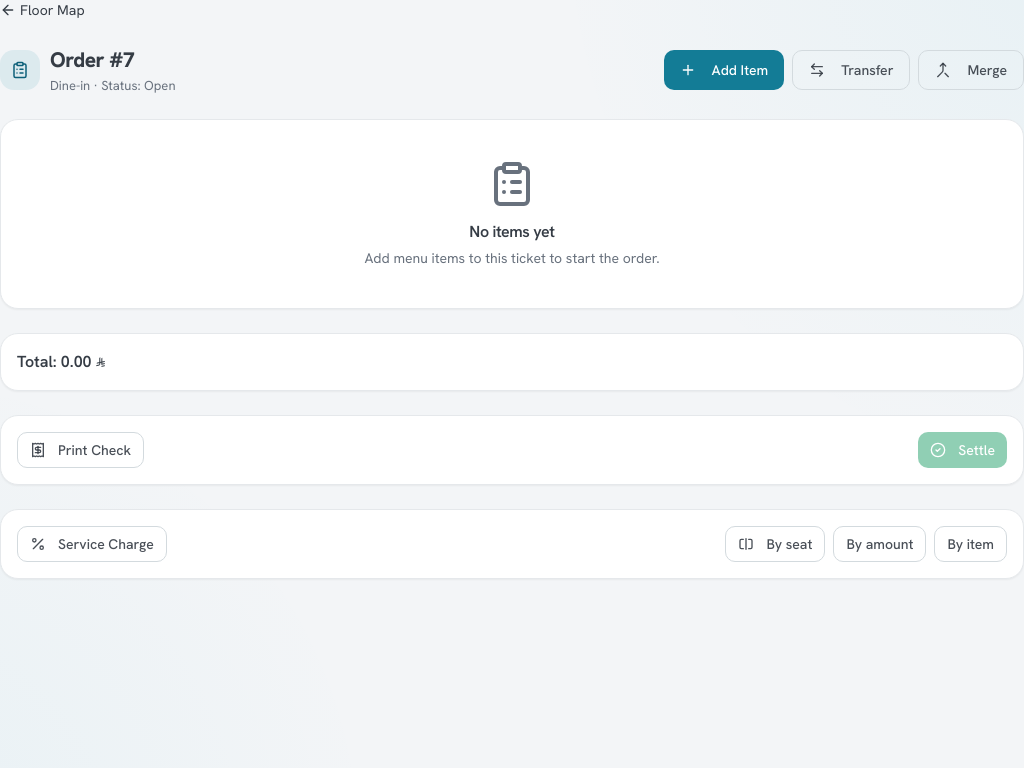
OrderTicket modifier picker — shadcn primitives (#226) › renders multi-select options as shadcn Checkbox primitives that toggle
Click the button "Add Item": coordinates (724, 70) [664, 50, 784, 90]
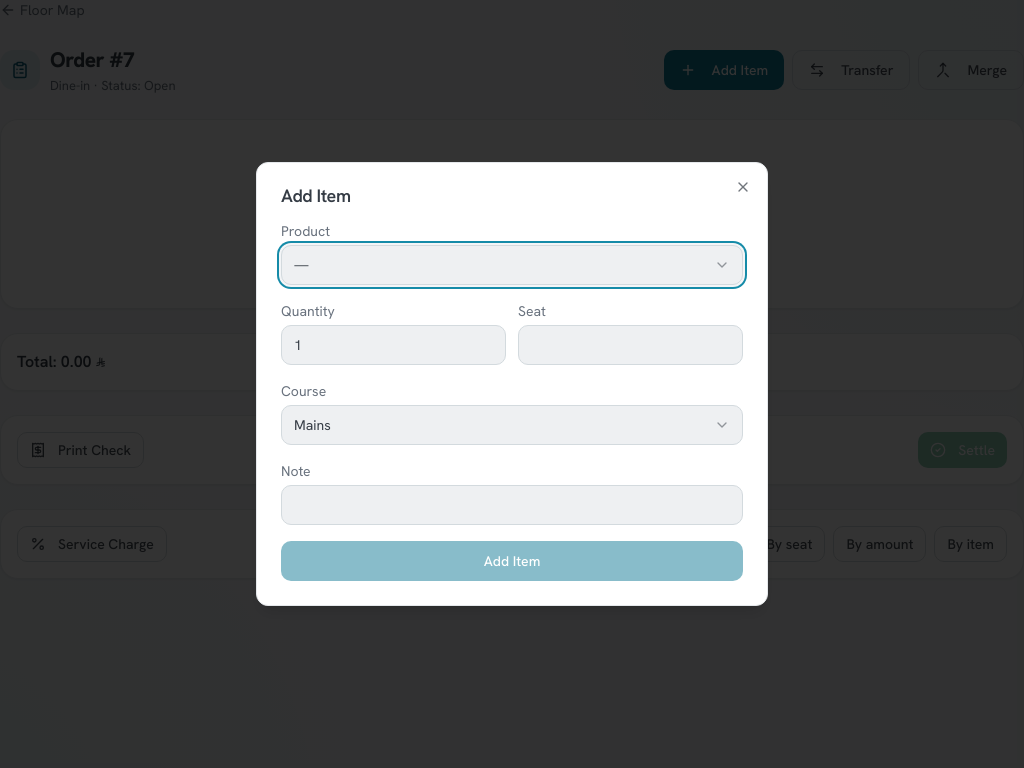
Click the dropdown labelled "—": coordinates (301, 265) [281, 245, 743, 285]
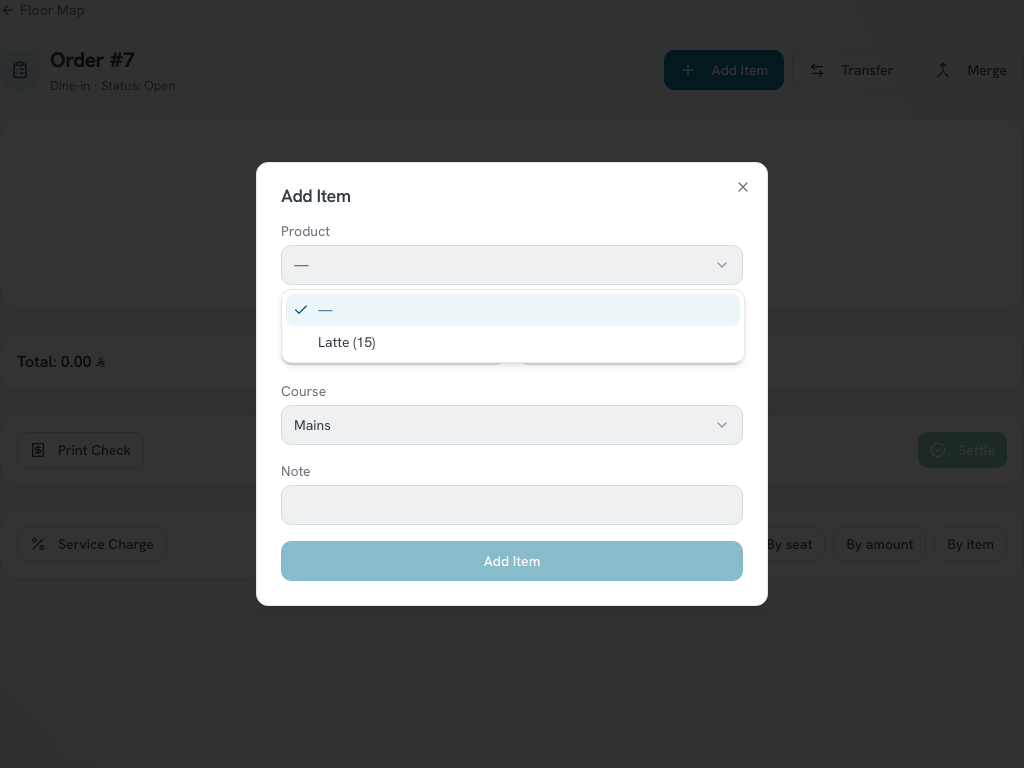
Click the option "Latte (15)": coordinates (347, 342) [318, 333, 375, 351]
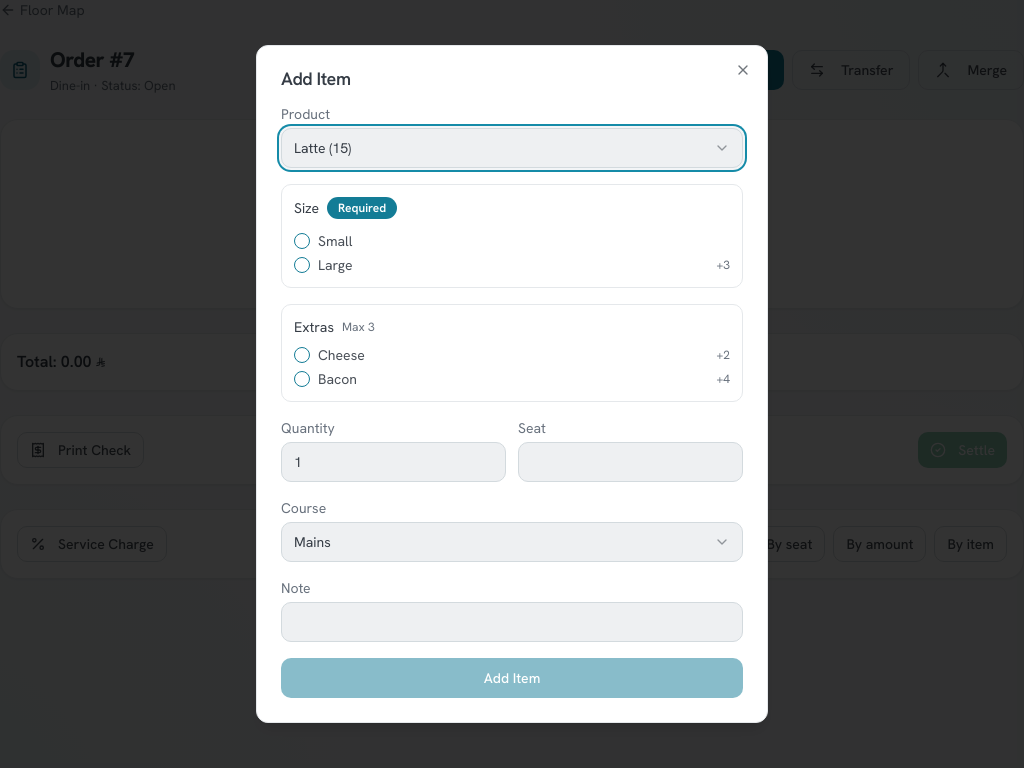
Click the checkbox named "cheese": coordinates (302, 355) [294, 347, 310, 363]
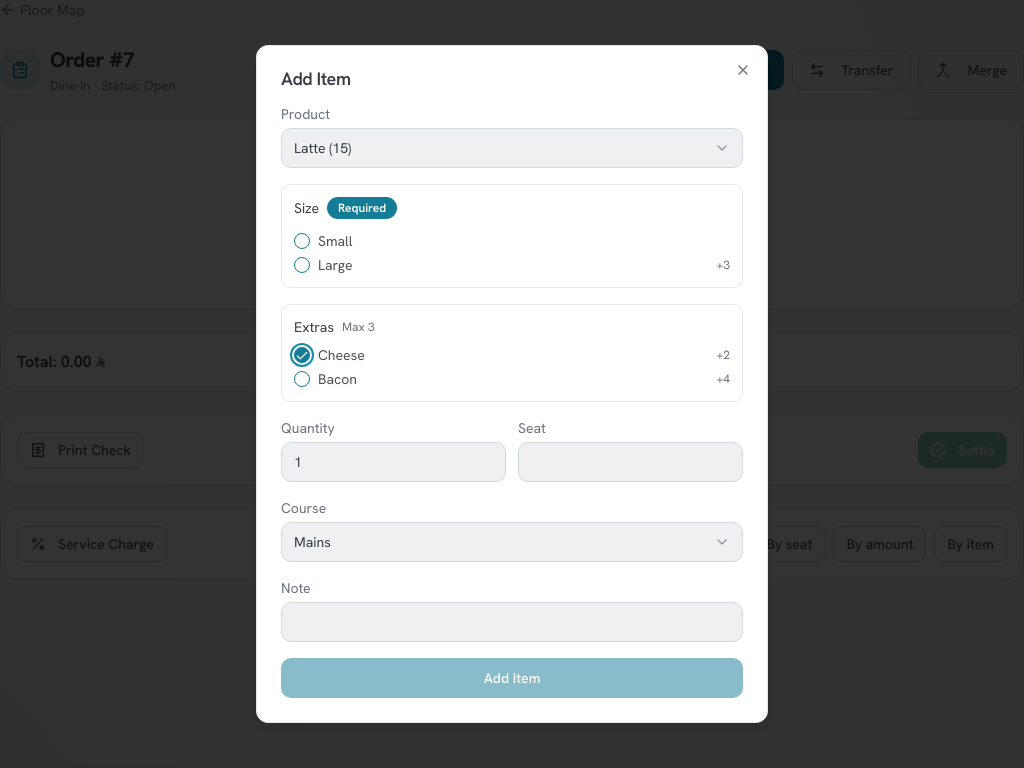
Expected: the checkbox named "cheese" is checked, [294, 347, 310, 363]
